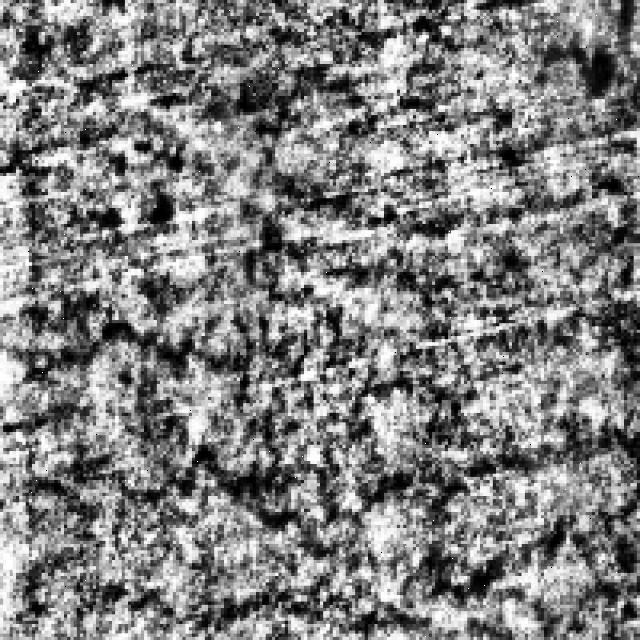Pitted_Surface: (13, 301, 637, 608), (234, 7, 636, 314)
